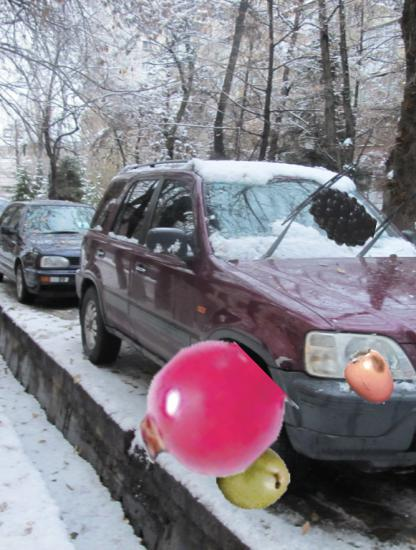Kaki: (338, 347, 399, 408)
Mulberry: (307, 183, 378, 254)
Pear: (216, 438, 291, 513)
Redcurrant: (135, 344, 280, 489)
